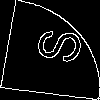S: (25, 25, 84, 65)
